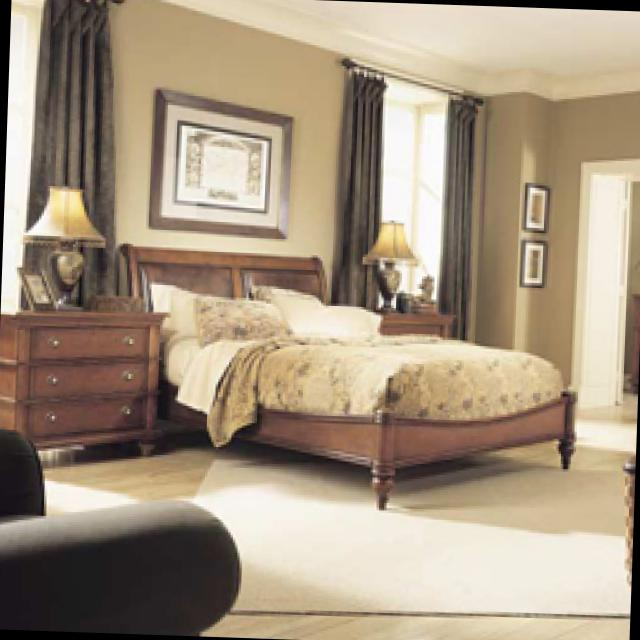2001: (381, 72, 448, 300), (5, 0, 46, 304)
armchair top: (0, 427, 246, 629)
bed -occluded-: (128, 238, 581, 500)
ceiling beam: (175, 0, 640, 98)
curtain crop: (23, 0, 120, 305), (333, 69, 388, 307), (446, 97, 483, 335)
door bars: (585, 172, 630, 409)
lamp crop: (28, 183, 110, 304), (367, 217, 422, 310)
night stand part: (1, 307, 164, 449), (380, 308, 459, 337)
painting crop: (153, 84, 297, 234), (526, 180, 552, 226), (526, 237, 549, 283)
picture occluded: (22, 263, 63, 305)
pillow occluded: (261, 285, 385, 336), (200, 296, 300, 339), (155, 279, 200, 330)
rug -partially obscured-: (191, 435, 631, 606), (204, 440, 632, 614)
